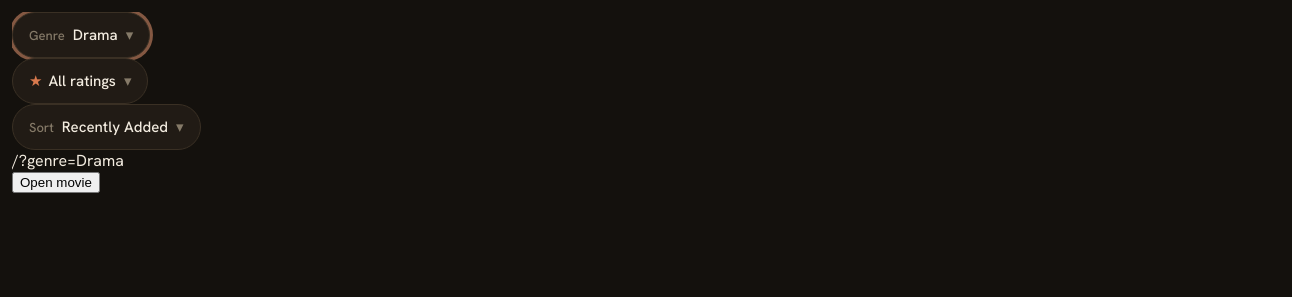
Test: LibraryFilters — the genre list › ticks the genre the screen is filtered to, and only that one
Click the button "Genre Drama ▾": (81, 35) [12,12,150,58]
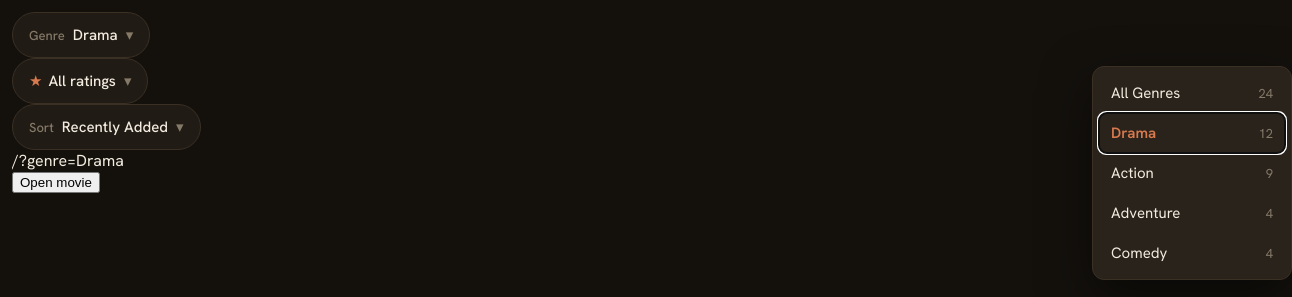
Expected: the menu item "Drama 12" is shown, [1099,113,1285,153]
